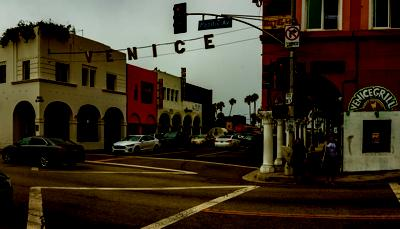International Road Signal Light: (172, 2, 188, 35)
